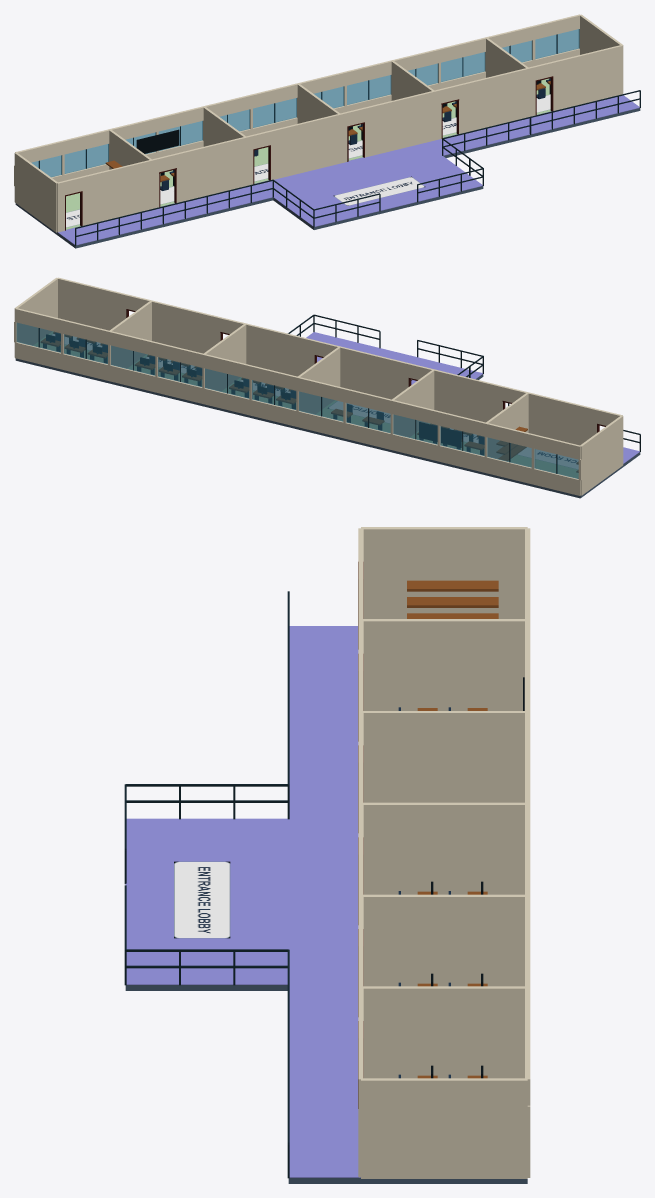
Rendered from admin-rooms.obj.
3 renders of one model, top to bottom at view 1: azimuth 30°, elevation 25°; view 2: azimuth 150°, elevation 25°; view 3: azimuth 270°, elevation 25°, orthographic. The views are drawn at different scales.
Visible parts, largest first — view 1: front-wall, corridor, partition, window-head-wall, window, central-landing, guardrail, window-sill-wall, floor-slab, door-lintel, room-floor, label-0-lobby (+5 smaller); view 2: front-wall, window, partition, window-sill-wall, window-head-wall, floor-slab, room-floor, central-landing, door-lintel, table, window-pier, guardrail (+9 smaller); view 3: partition, corridor, central-landing, label-0-lobby, guardrail, window-head-wall, front-wall, storage-shelf, floor-slab.
Part boxes in pixels (x1,y1,x2,y2): front-wall: (57,45,622,232); corridor: (57,95,639,245); partition: (14,14,623,232); window-head-wall: (15,14,580,162); window: (31,29,579,177); central-landing: (273,156,482,226); guardrail: (75,90,640,236); window-sill-wall: (51,48,579,182); floor-slab: (15,108,640,248); door-lintel: (64,62,552,194); room-floor: (66,78,551,229); label-0-lobby: (333,176,425,205); front-wall: (57,277,622,445); window: (16,322,578,478); partition: (14,277,623,495); window-sill-wall: (15,342,580,495); window-head-wall: (15,308,580,459); floor-slab: (15,358,640,498); room-floor: (34,331,578,477); central-landing: (306,332,482,384); door-lintel: (127,294,614,425); table: (41,332,484,449); window-pier: (14,321,581,480); guardrail: (288,314,640,443); partition: (361,527,527,1178); corridor: (288,626,360,1177); central-landing: (125,818,288,984); label-0-lobby: (174,861,230,938); guardrail: (124,591,289,1143); window-head-wall: (525,528,530,1105); front-wall: (358,528,363,1177); storage-shelf: (407,580,498,618); floor-slab: (125,985,527,1183).
Bounding box in the file's own units: 36.15 × 3.18 × 11.2.
Materials: 22 (7 with a texture image).
